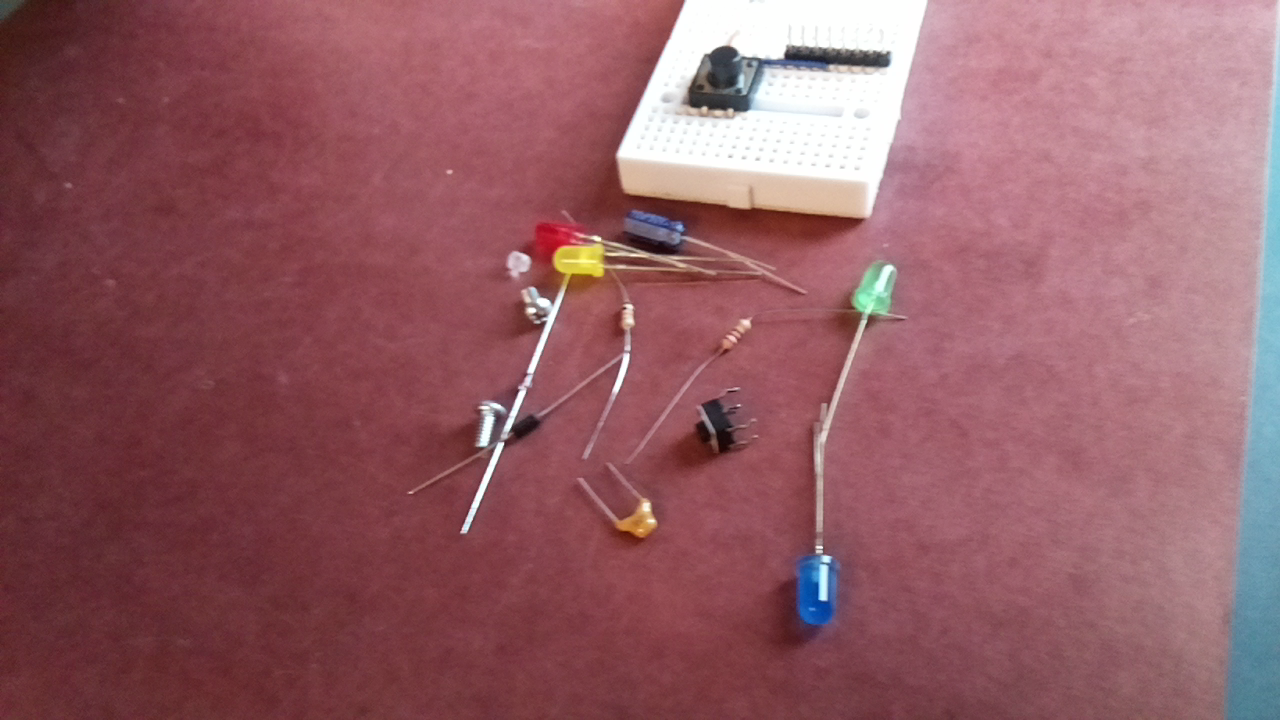button: (684, 46, 765, 111), (691, 397, 741, 456)
capacitor: (620, 206, 690, 255), (610, 495, 659, 542)
diode: (507, 413, 547, 440), (515, 372, 535, 394)
led: (789, 551, 843, 630), (847, 260, 899, 322), (530, 215, 591, 258), (549, 241, 607, 281)
resistor: (715, 316, 755, 356), (619, 302, 637, 332)
